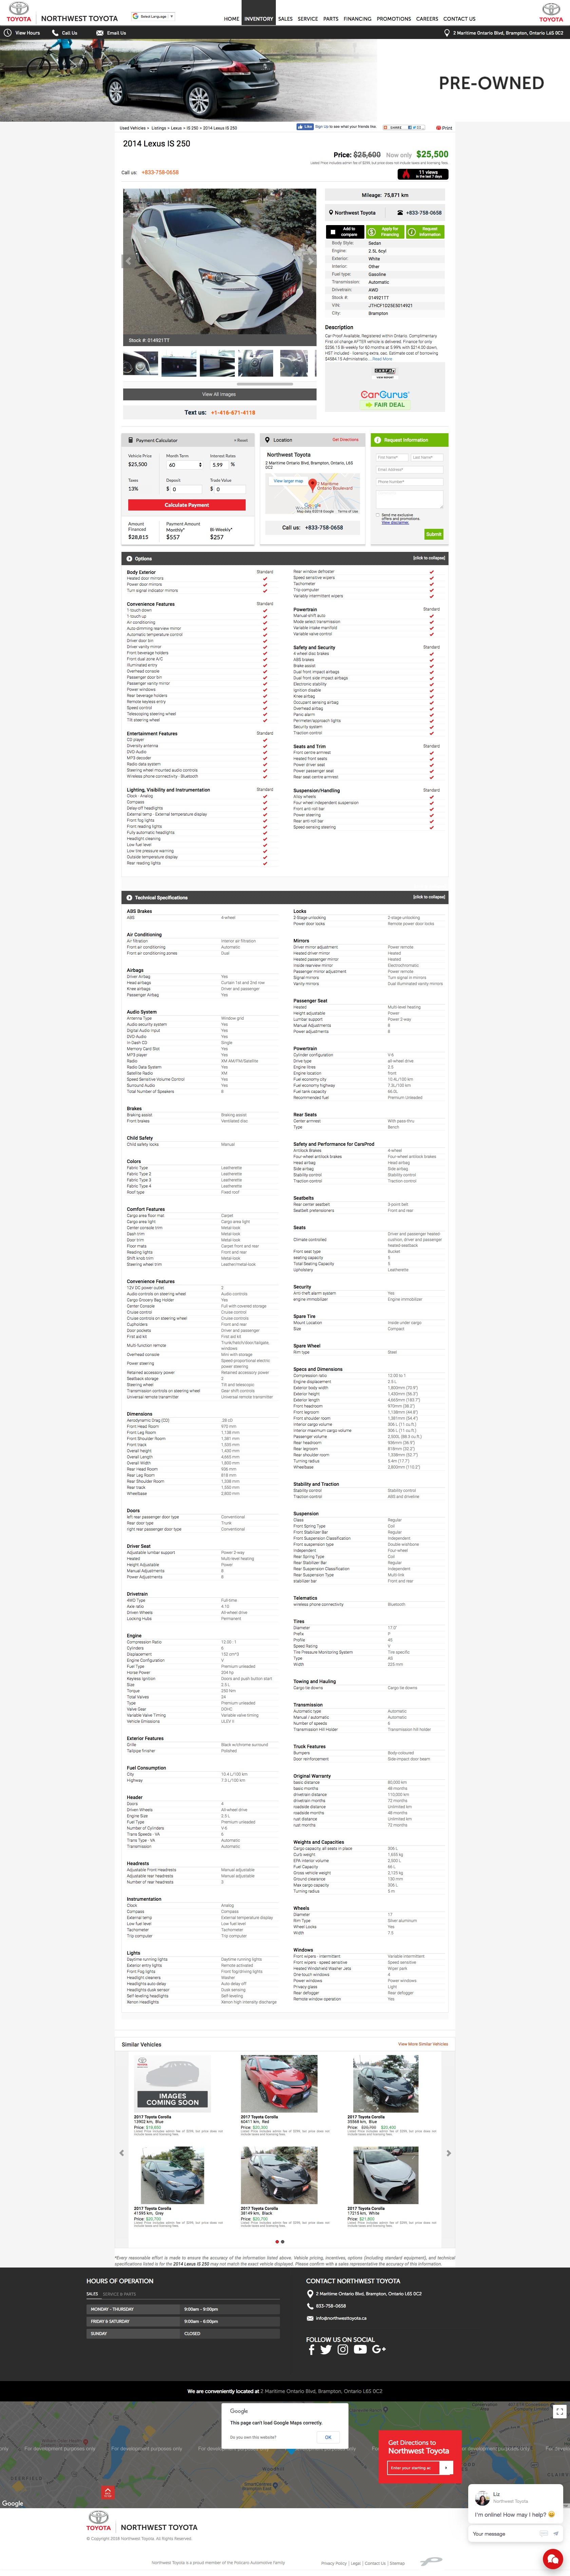car: (307, 258, 314, 266)
